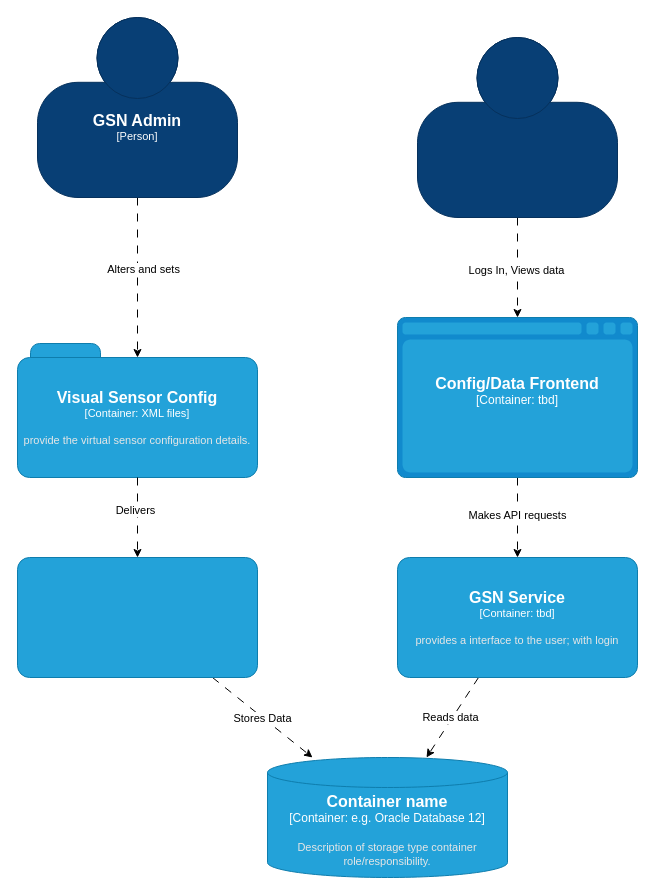
This 655x895 diagram has some shape labels left out. The shapes that lost their labels are listed below. From the top down, each one's box as (x1, y1, x2, y2) in pixels, then its label:
(416, 36, 618, 218): Researcher [Person]
(16, 556, 258, 678): GSN Core [Container: Java] data ingest; process/propagation; persist
